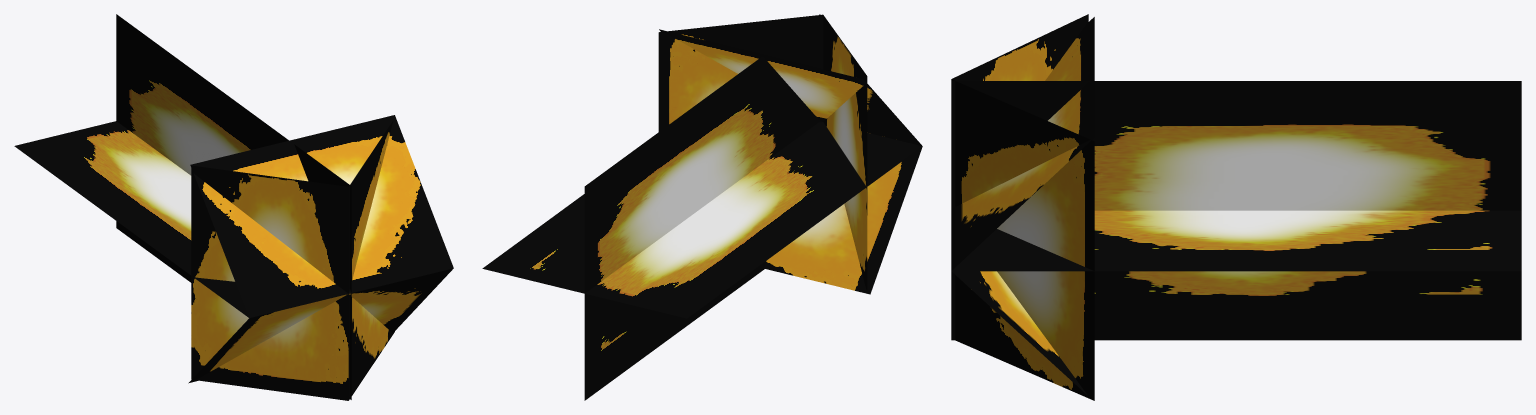
File: flash.glb
The picture shows the model from 3 angles, left to right: view 1: azimuth 30°, elevation 25°; view 2: azimuth 150°, elevation 25°; view 3: azimuth 270°, elevation 25°; orthographic projection. The views are drawn at different scales.
Parts seen in each view (by area): view 1: Plane.002; view 2: Plane.002; view 3: Plane.002.
Part boxes in pixels (bbox=[...]): Plane.002: bbox=[14, 14, 453, 400]; Plane.002: bbox=[482, 14, 922, 400]; Plane.002: bbox=[951, 14, 1521, 400].
Bounding box in the file's own units: 2.04 × 2.04 × 3.98.
1 material, 1 textured.
